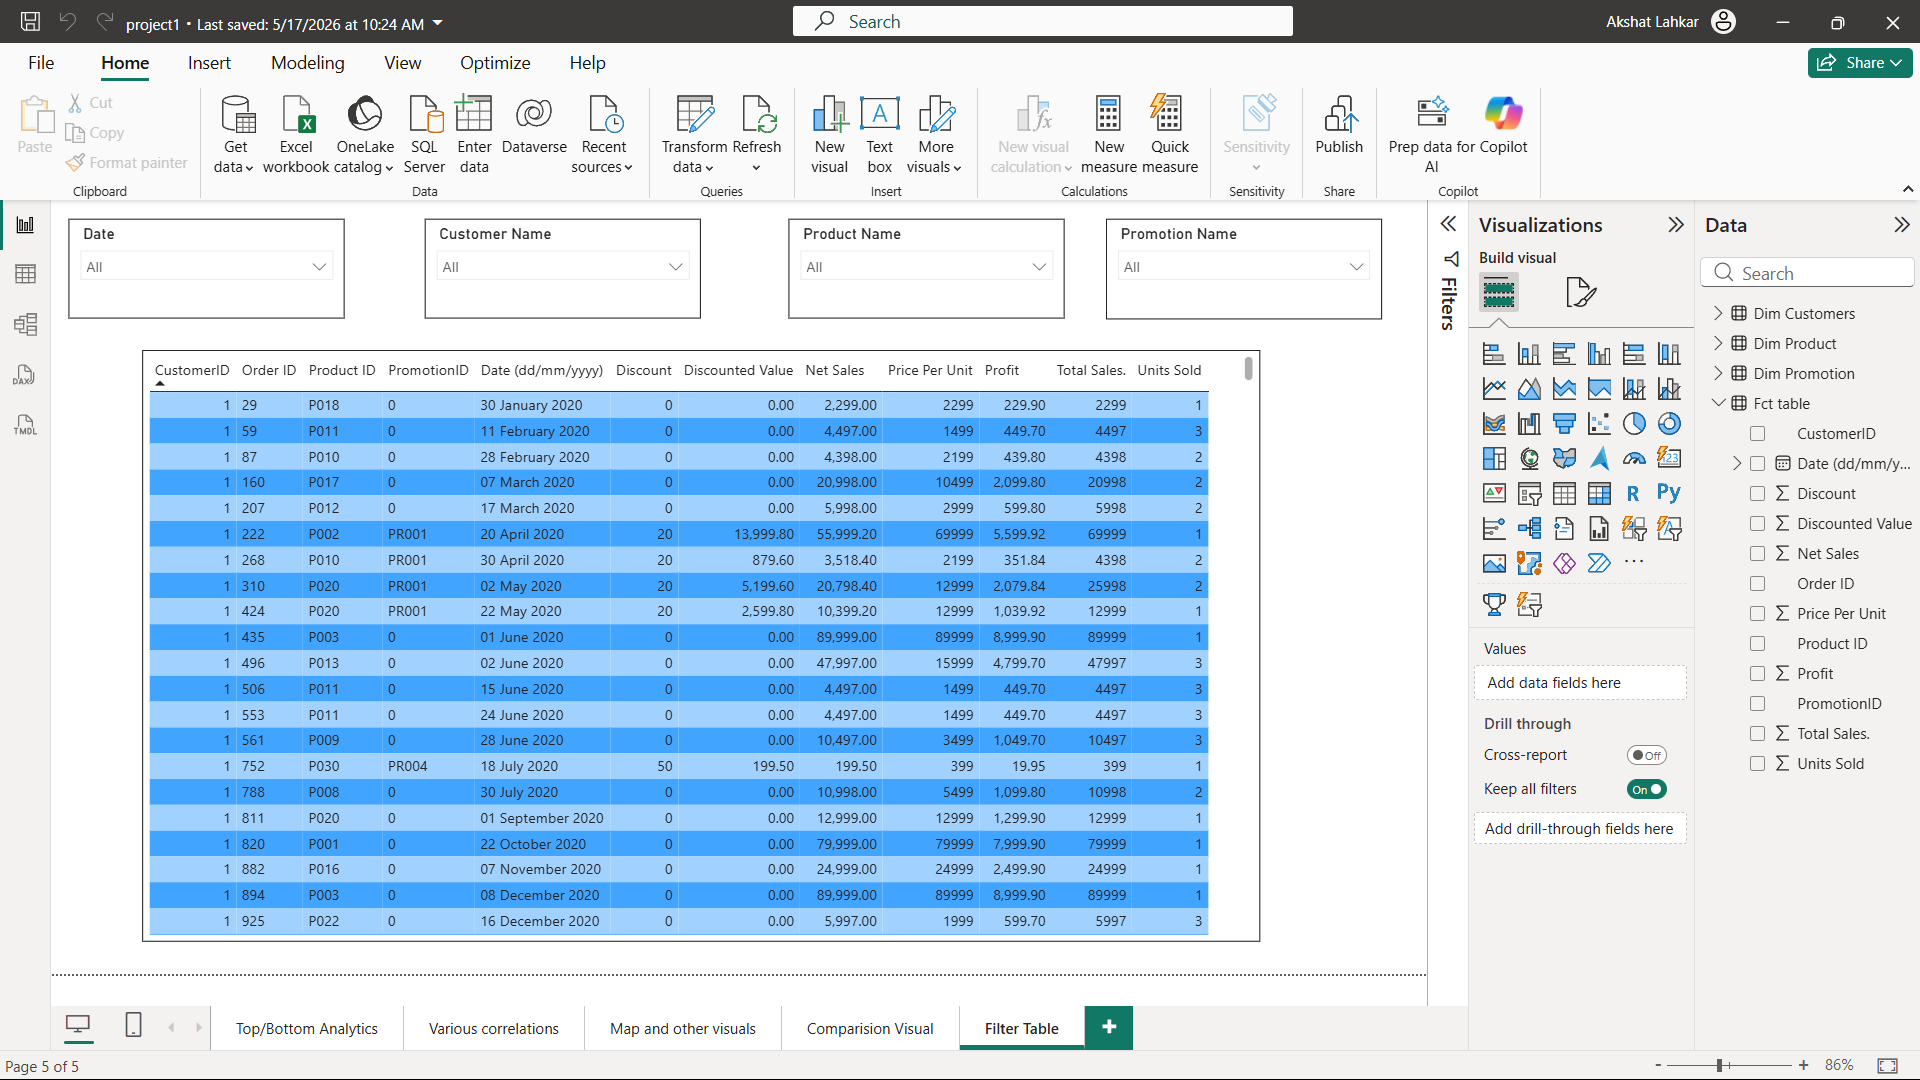

Layout of this report page (visuals, bound fields, positions):
{"tool":"powerbi","page":{"name":"Filter Table","canvas":[1280,720],"ordinal":4},"visuals":[{"type":"tableEx","fields":{"Values":["Fct table.CustomerID","Fct table.Order ID","Fct table.Product ID","Fct table.PromotionID","Fct table.Date (dd/mm/yyyy)","Fct table.Discount","Fct table.Discounted Value","Fct table.Net Sales","Fct table.Price Per Unit","Fct table.Profit","Fct table.Total Sales.","Fct table.Units Sold"]},"box":[85.1,140,1040.1,550.3],"z":0},{"type":"slicer","fields":{"Values":["Date Table 1.Date"]},"box":[10.5,17.4,257,93],"z":1000},{"type":"slicer","fields":{"Values":["Dim Customers.Customer Name"]},"box":[348,17.4,257,93],"z":1001},{"type":"slicer","fields":{"Values":["Dim Product.Product Name"]},"box":[685.5,17.4,257,93],"z":1002},{"type":"slicer","fields":{"Values":["Dim Promotion.Promotion Name"]},"box":[981.1,17.8,256.6,93.3],"z":1003}]}

Visuals, with their boxes on the page's 1280x720 design canvas (x1, y1, x2, y2). These are canvas units, not pixel positions in the 1920x1080 screenshot, which may show the page scaled, cropped or inside an application window:
tableEx - Fct table.CustomerID x Fct table.Order ID: pyautogui.locateOnScreen(85, 140, 1125, 690)
slicer - Date Table 1.Date: pyautogui.locateOnScreen(10, 17, 268, 110)
slicer - Dim Customers.Customer Name: pyautogui.locateOnScreen(348, 17, 605, 110)
slicer - Dim Product.Product Name: pyautogui.locateOnScreen(686, 17, 942, 110)
slicer - Dim Promotion.Promotion Name: pyautogui.locateOnScreen(981, 18, 1238, 111)
